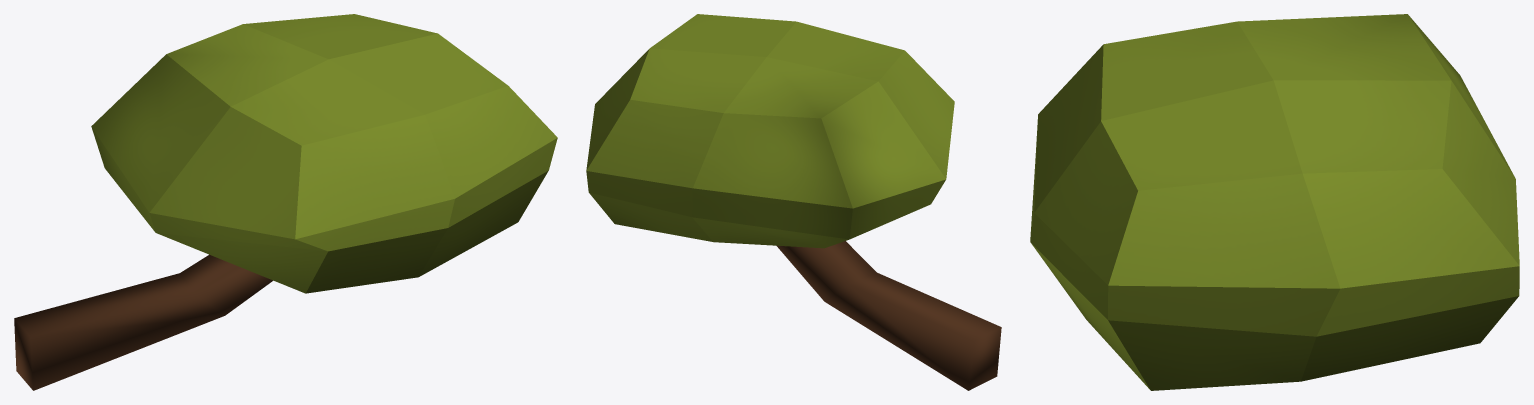
File: Rama.fbx
3 renders of one model, left to right at view 1: azimuth 30°, elevation 25°; view 2: azimuth 150°, elevation 25°; view 3: azimuth 270°, elevation 25°, orthographic. The views are drawn at different scales.
Visible parts, largest first — view 1: Cube.002, Cylinder.001; view 2: Cube.002, Cylinder.001; view 3: Cube.002.
Part boxes in pixels (x1=…): Cube.002: x1=91, y1=14, x2=557, y2=293; Cylinder.001: x1=14, y1=254, x2=272, y2=390; Cube.002: x1=586, y1=14, x2=954, y2=248; Cylinder.001: x1=776, y1=241, x2=1001, y2=390; Cube.002: x1=1030, y1=14, x2=1519, y2=390.
Bounding box in the file's own units: 434 × 257 × 310.
Materials: 1 (1 with a texture image).
